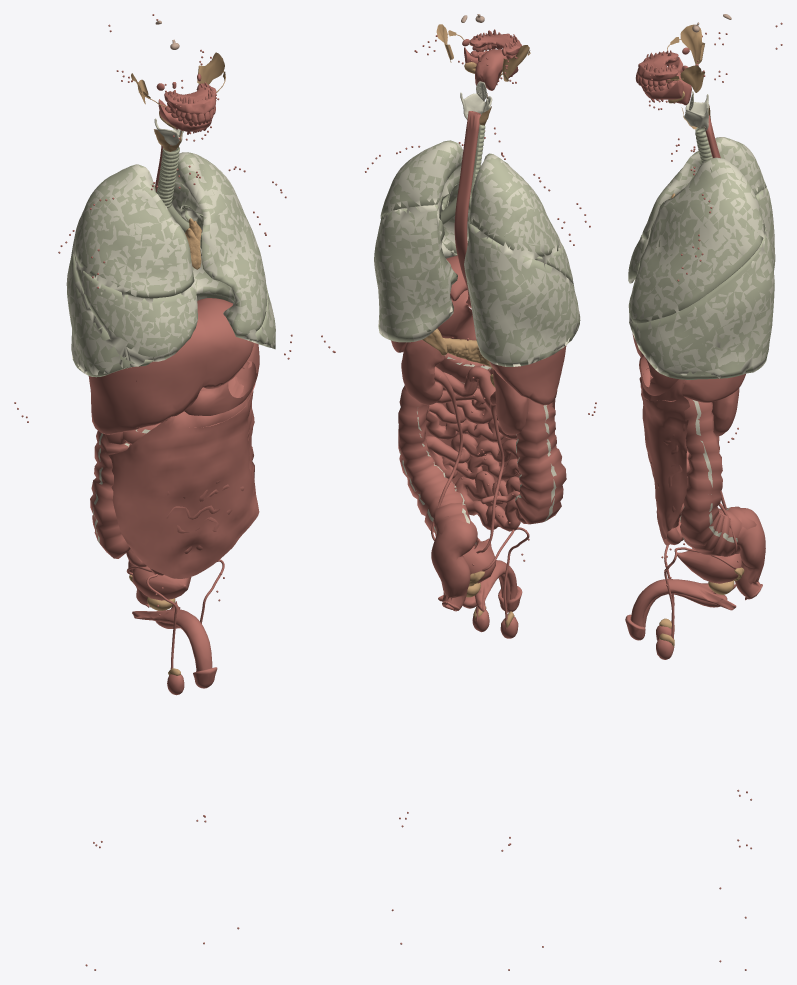
The model's file is visceral.glb.
The picture shows the model from 3 angles, left to right: view 1: azimuth 30°, elevation 25°; view 2: azimuth 150°, elevation 25°; view 3: azimuth 270°, elevation 25°; orthographic projection.
Visible parts, largest first — view 1: visceral-greater-omentum, visceral-pleura, visceral-liver, visceral-superior-lobe-of-right-lung, visceral-superior-lobe-of-left-lung, visceral-middle-lobe-of-right-lung, visceral-ascending-colon, visceral-inferior-lobe-of-right-lung, visceral-stomach, visceral-corpus-cavernosum-of-penis, visceral-gingiva, visceral-urinary-bladder (+3 smaller); view 2: visceral-pleura, visceral-jejunum, visceral-inferior-lobe-of-right-lung, visceral-inferior-lobe-of-left-lung, visceral-descending-colon, visceral-ascending-colon, visceral-superior-lobe-of-right-lung, visceral-sigmoid-colon, visceral-liver, visceral-superior-lobe-of-left-lung, visceral-kidney-l, visceral-oesophagus (+11 smaller); view 3: visceral-pleura, visceral-superior-lobe-of-left-lung, visceral-inferior-lobe-of-left-lung, visceral-descending-colon, visceral-greater-omentum, visceral-sigmoid-colon, visceral-corpus-cavernosum-of-penis, visceral-gingiva, visceral-urinary-bladder, visceral-superior-lobe-of-right-lung, visceral-spleen, visceral-kidney-l (+9 smaller).
Boxes of the visible parts, box(x1,y1,x2,y2) form: visceral-greater-omentum: box(105, 388, 259, 578); visceral-pleura: box(66, 152, 275, 375); visceral-liver: box(88, 298, 253, 434); visceral-superior-lobe-of-right-lung: box(74, 164, 194, 298); visceral-superior-lobe-of-left-lung: box(172, 152, 266, 338); visceral-middle-lobe-of-right-lung: box(74, 256, 197, 361); visceral-ascending-colon: box(90, 430, 130, 558); visceral-inferior-lobe-of-right-lung: box(66, 246, 152, 377); visceral-stomach: box(184, 343, 259, 415); visceral-corpus-cavernosum-of-penis: box(132, 601, 212, 671); visceral-gingiva: box(158, 83, 216, 131); visceral-urinary-bladder: box(132, 566, 191, 600); visceral-pleura: box(374, 142, 580, 366); visceral-jejunum: box(425, 372, 526, 531); visceral-inferior-lobe-of-right-lung: box(464, 223, 580, 366); visceral-inferior-lobe-of-left-lung: box(374, 205, 457, 342); visceral-descending-colon: box(398, 385, 478, 548); visceral-ascending-colon: box(515, 398, 566, 524); visceral-superior-lobe-of-right-lung: box(469, 153, 559, 256); visceral-sigmoid-colon: box(431, 516, 477, 608); visceral-liver: box(446, 255, 566, 405); visceral-superior-lobe-of-left-lung: box(380, 140, 469, 253); visceral-kidney-l: box(401, 340, 444, 405); visceral-oesophagus: box(454, 111, 480, 308); visceral-pleura: box(628, 137, 775, 378); visceral-superior-lobe-of-left-lung: box(629, 158, 765, 323); visceral-inferior-lobe-of-left-lung: box(631, 223, 774, 379); visceral-descending-colon: box(680, 399, 756, 556); visceral-greater-omentum: box(639, 368, 689, 545); visceral-sigmoid-colon: box(735, 508, 765, 597); visceral-corpus-cavernosum-of-penis: box(630, 579, 736, 626); visceral-gingiva: box(637, 52, 683, 99); visceral-urinary-bladder: box(677, 550, 741, 583); visceral-superior-lobe-of-right-lung: box(641, 137, 766, 239); visceral-spleen: box(681, 374, 745, 402); visceral-kidney-l: box(711, 388, 739, 436).
Size of the model in its own units: 0.4019 by 1.3 by 0.1995.
